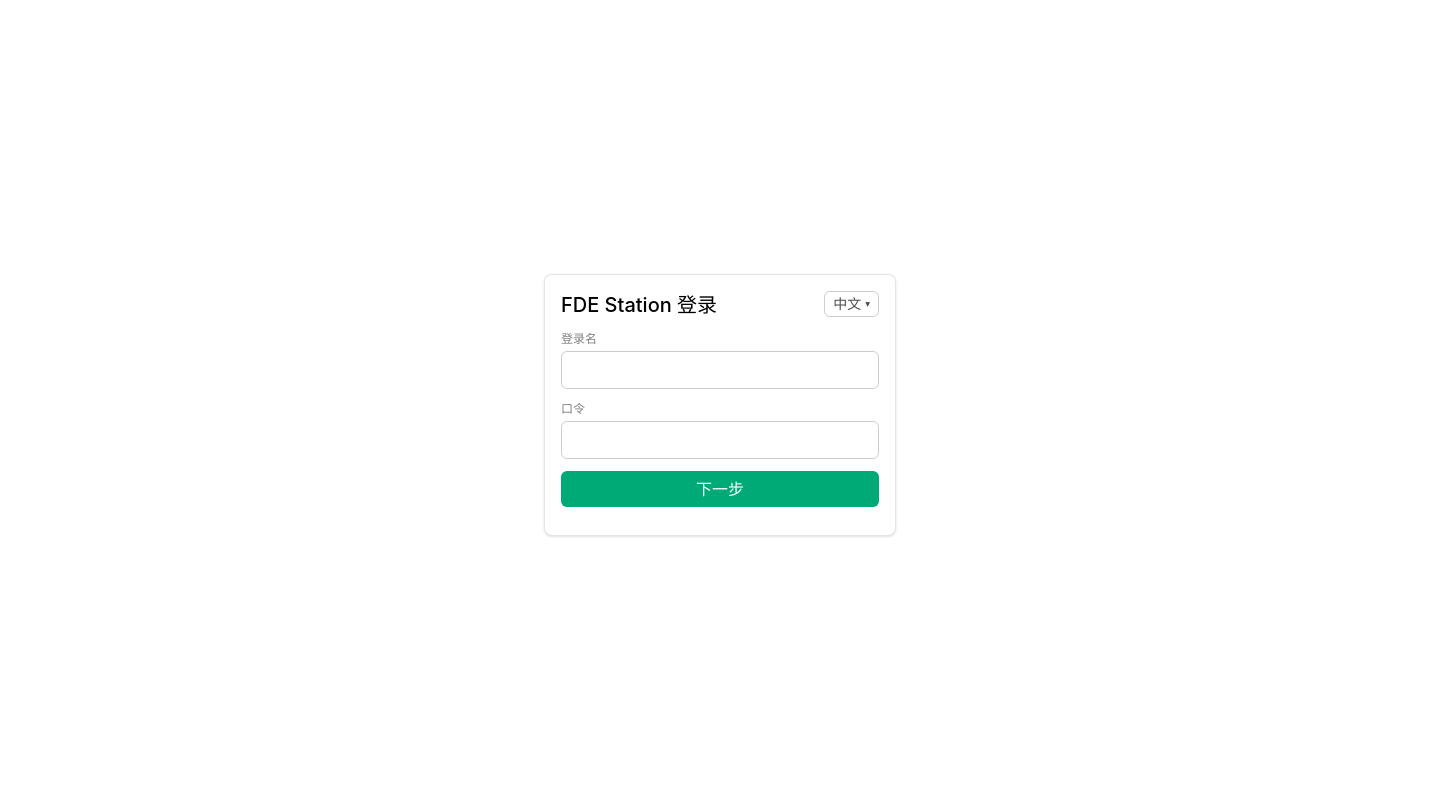
Test: #255 强制改密屏 · 闸门（挂 App 验「工作台没挂载」） › 登录返回 password_change_required=true ⇒ 渲染改密屏，且工作台/导航不渲染
In the field with id "loginName": (720, 370) [561,351,879,389], type "alice"
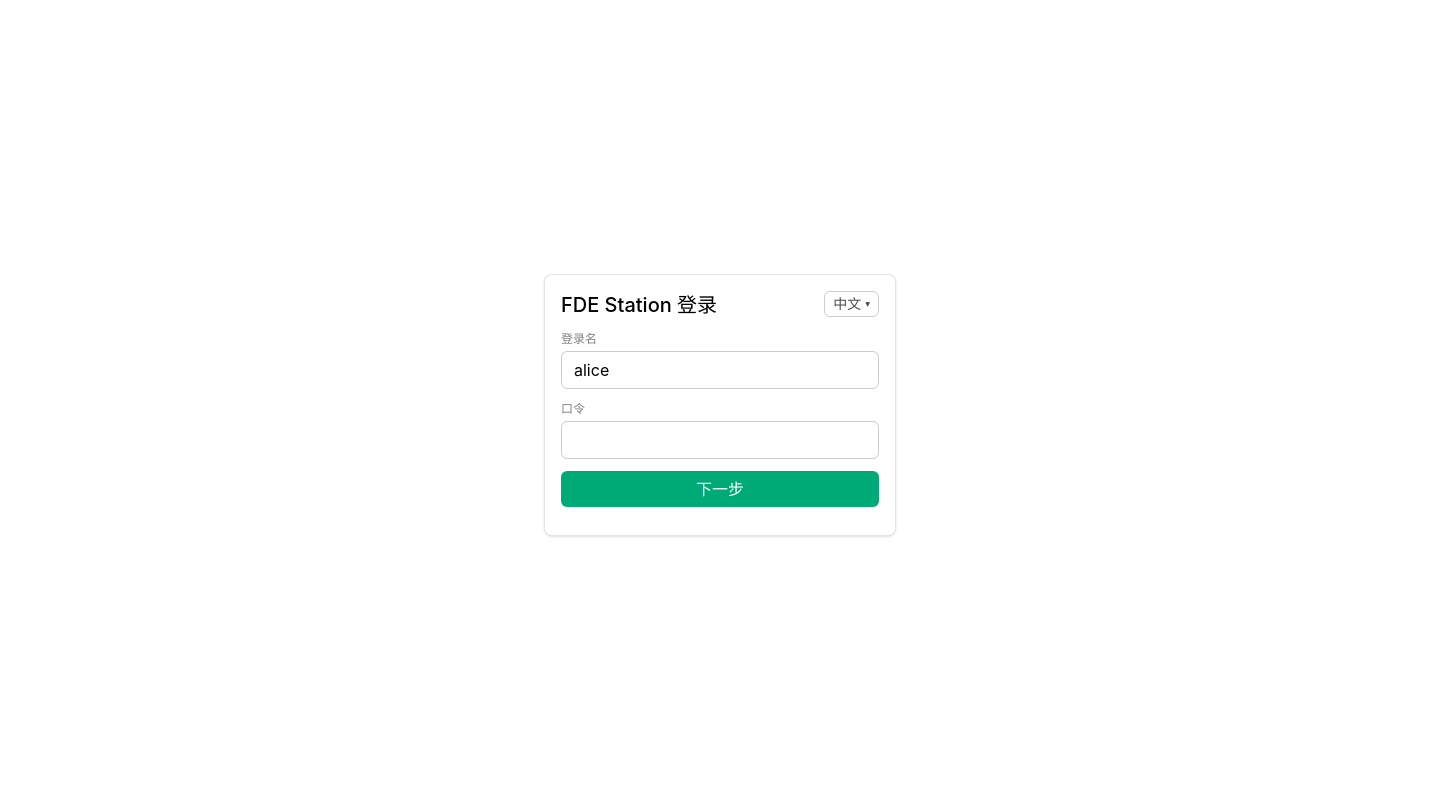
In the password field with id "loginPass": (720, 440) [561,421,879,459], type "pw"
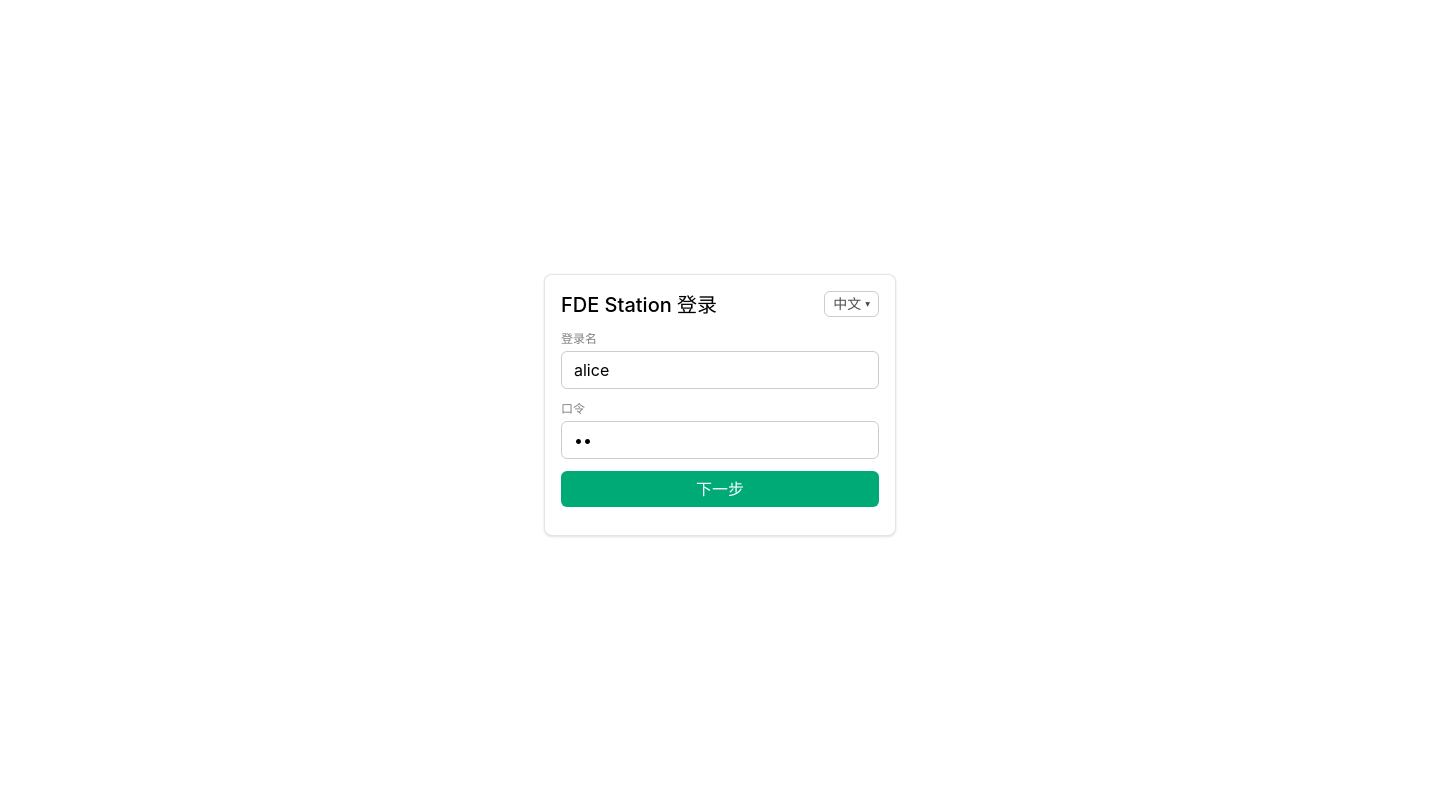
Submit the form, box [561,331,879,507]
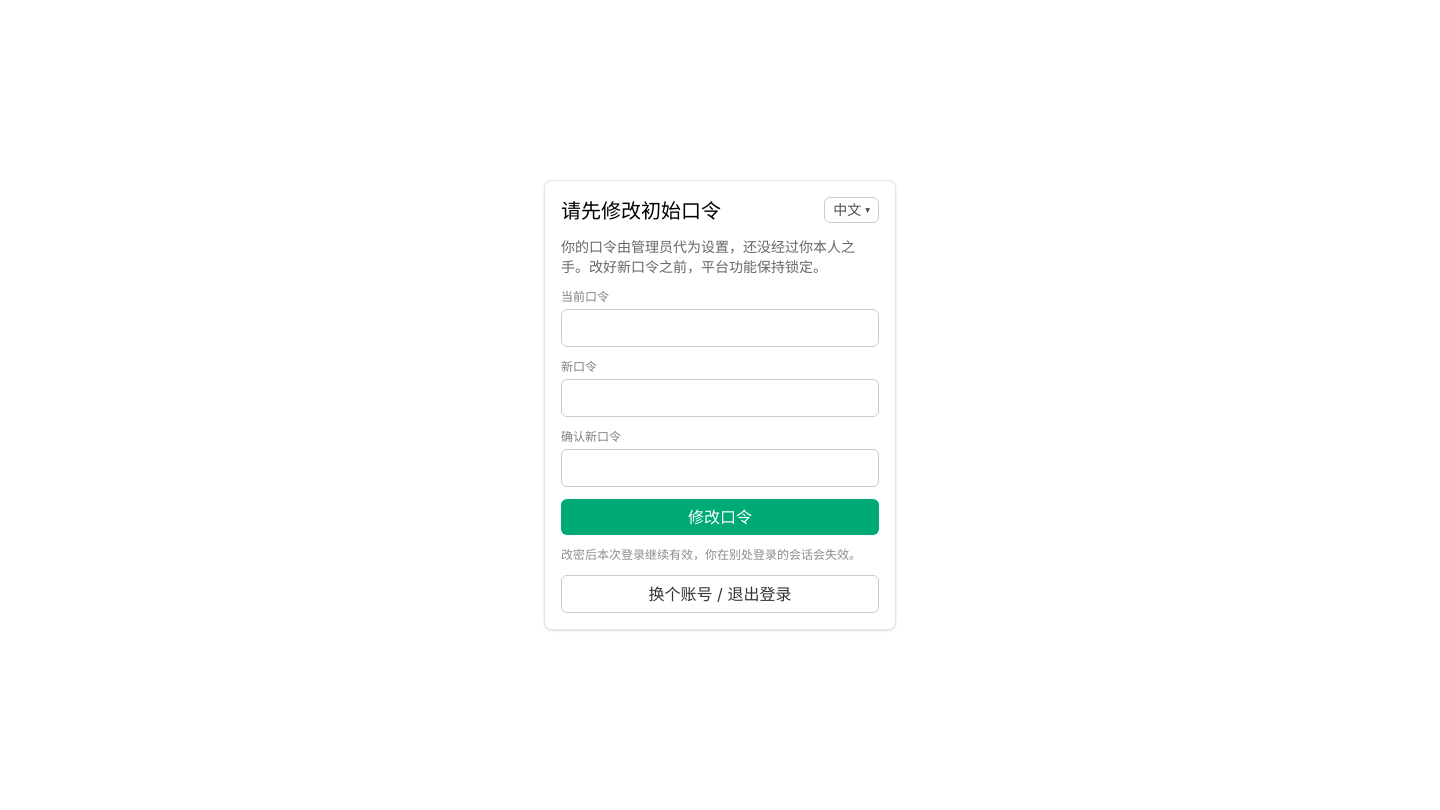
Expected: the element with test id "force-password" is shown
Expected: the text "请先修改初始口令" is shown, [561,197,721,225]
